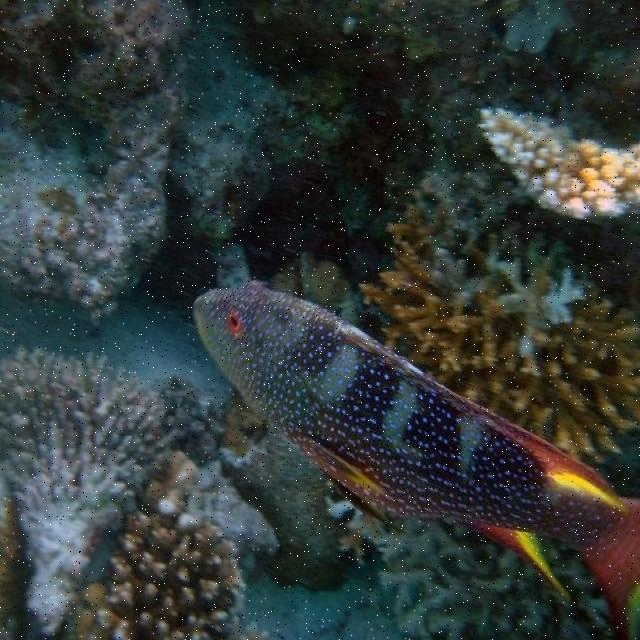fish: (195, 285, 639, 638)
reefs: (0, 3, 356, 317), (366, 175, 639, 453), (0, 347, 223, 620), (93, 501, 248, 639), (479, 107, 639, 212)
